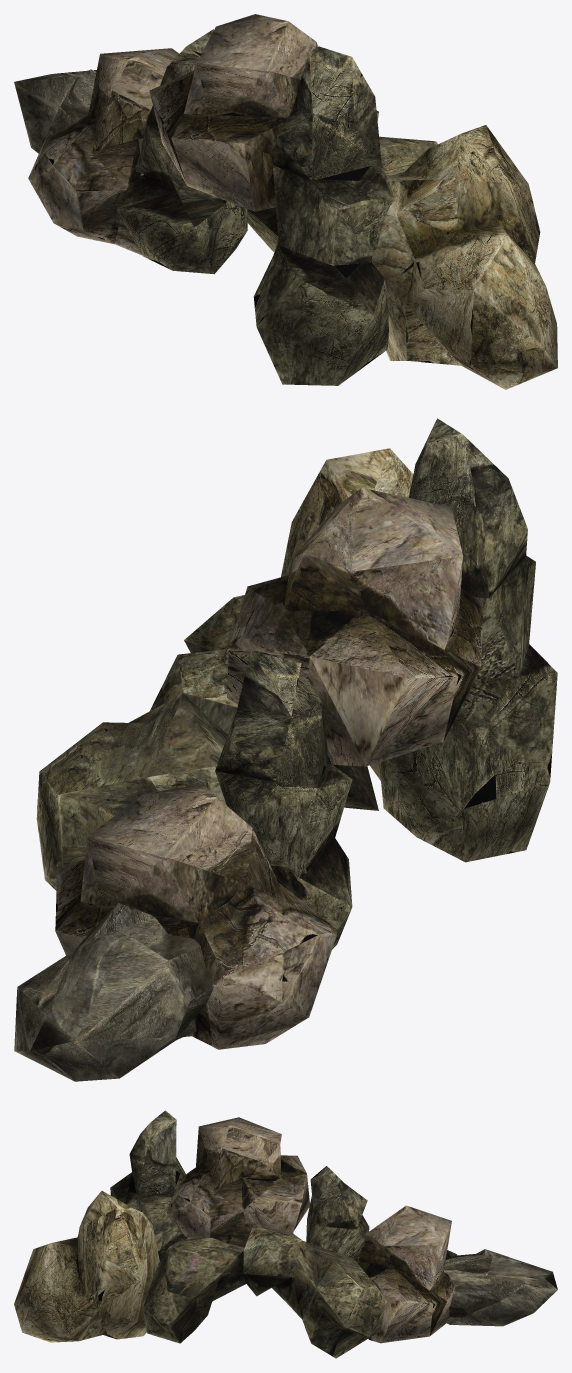
File: rocks1_lod1.fbx
3 renders of one model, top to bottom at view 1: azimuth 30°, elevation 25°; view 2: azimuth 150°, elevation 25°; view 3: azimuth 270°, elevation 25°, orthographic. The views are drawn at different scales.
Parts seen in each view (by area): view 1: Rock_1_LOD1, Rock_5_LOD1, Rock_7_1_LOD1, Rock_7_LOD1, Rock_5_1_LOD1, Rock_4_LOD1, Rock_6_LOD1; view 2: Rock_7_1_LOD1, Rock_7_LOD1, Rock_5_LOD1, Rock_6_LOD1, Rock_4_LOD1, Rock_5_1_LOD1, Rock_1_LOD1; view 3: Rock_6_LOD1, Rock_1_LOD1, Rock_7_1_LOD1, Rock_7_LOD1, Rock_4_LOD1, Rock_5_LOD1, Rock_5_1_LOD1.
Part boxes in pixels (left/top/right/bottom): Rock_1_LOD1: left=371, top=125, right=557, bottom=389; Rock_5_LOD1: left=253, top=46, right=394, bottom=385; Rock_7_1_LOD1: left=149, top=14, right=378, bottom=211; Rock_7_LOD1: left=28, top=48, right=179, bottom=255; Rock_5_1_LOD1: left=116, top=29, right=247, bottom=274; Rock_4_LOD1: left=14, top=69, right=96, bottom=153; Rock_6_LOD1: left=247, top=136, right=437, bottom=251; Rock_7_1_LOD1: left=227, top=488, right=483, bottom=766; Rock_7_LOD1: left=55, top=784, right=337, bottom=1049; Rock_5_LOD1: left=379, top=418, right=557, bottom=862; Rock_6_LOD1: left=36, top=595, right=378, bottom=890; Rock_4_LOD1: left=14, top=903, right=213, bottom=1081; Rock_5_1_LOD1: left=215, top=651, right=352, bottom=949; Rock_1_LOD1: left=281, top=448, right=413, bottom=780; Rock_6_LOD1: left=143, top=1226, right=386, bottom=1358; Rock_1_LOD1: left=14, top=1191, right=159, bottom=1342; Rock_7_1_LOD1: left=167, top=1117, right=309, bottom=1249; Rock_7_LOD1: left=356, top=1205, right=457, bottom=1343; Rock_4_LOD1: left=444, top=1249, right=557, bottom=1326; Rock_5_LOD1: left=110, top=1110, right=186, bottom=1260; Rock_5_1_LOD1: left=306, top=1166, right=369, bottom=1260.
Size of the model in its own units: 725 by 845 by 1976.
Materials: 5 (5 with a texture image).
